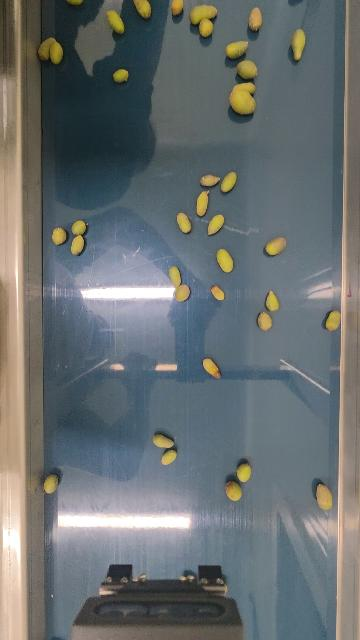Baby Potato: (228, 82, 257, 116), (290, 28, 307, 62), (105, 8, 126, 35), (224, 39, 250, 60), (315, 483, 334, 511), (38, 36, 57, 63), (188, 3, 218, 20), (264, 235, 287, 257), (236, 58, 259, 80), (216, 248, 234, 274), (224, 479, 243, 503), (202, 356, 221, 379), (207, 212, 225, 236), (152, 432, 176, 450), (220, 171, 238, 194), (195, 190, 210, 217), (49, 38, 64, 65), (248, 6, 264, 31), (132, 0, 152, 19), (325, 309, 342, 331), (235, 461, 252, 483), (69, 234, 86, 256), (176, 211, 192, 234), (197, 17, 214, 38), (43, 473, 59, 495), (160, 447, 178, 466), (265, 290, 280, 312), (199, 172, 221, 187), (257, 311, 273, 331), (51, 226, 67, 246), (168, 265, 183, 286), (175, 283, 191, 302), (71, 219, 87, 236), (112, 68, 129, 84), (210, 284, 225, 301), (240, 80, 257, 94), (170, 0, 185, 15), (65, 0, 85, 5)
